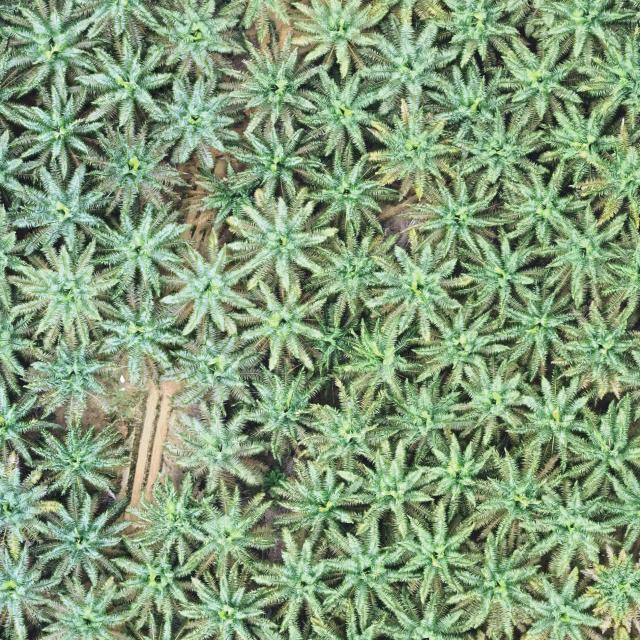Tree: (5, 231, 119, 352), (448, 439, 572, 550), (85, 193, 195, 311), (220, 182, 340, 290), (73, 115, 192, 218), (155, 221, 258, 340), (352, 2, 462, 110), (362, 222, 466, 336), (220, 29, 328, 136), (170, 476, 280, 581), (515, 476, 626, 578), (542, 195, 636, 313), (28, 488, 135, 591), (312, 510, 410, 622), (444, 530, 542, 640), (268, 460, 373, 562), (8, 155, 107, 263), (304, 212, 398, 325), (292, 372, 402, 467), (4, 79, 107, 180), (236, 363, 340, 463), (0, 0, 103, 100), (91, 284, 190, 388), (371, 370, 476, 468), (225, 272, 330, 370), (399, 166, 510, 258), (454, 222, 554, 324), (146, 66, 244, 169), (248, 520, 337, 632), (411, 302, 512, 400), (296, 148, 398, 245), (15, 330, 120, 424), (555, 390, 640, 506), (104, 528, 206, 624), (498, 371, 596, 470), (351, 439, 443, 544), (289, 0, 400, 86), (389, 500, 483, 601), (73, 33, 174, 127), (367, 111, 466, 206), (547, 297, 640, 398), (125, 466, 213, 570), (496, 154, 594, 246), (164, 402, 266, 490), (448, 105, 548, 191), (175, 555, 276, 640), (32, 415, 134, 499), (489, 30, 586, 118), (299, 62, 385, 161), (536, 96, 628, 188), (222, 119, 324, 201), (567, 114, 640, 228), (143, 0, 248, 79), (447, 351, 534, 446), (166, 327, 256, 415), (423, 56, 512, 142), (511, 562, 609, 640), (333, 314, 422, 397), (572, 20, 640, 124), (0, 530, 62, 640), (495, 290, 577, 373), (36, 573, 133, 640), (0, 451, 57, 560), (434, 0, 524, 69), (538, 0, 635, 61), (0, 368, 51, 468), (585, 548, 640, 629), (68, 0, 172, 40), (598, 460, 640, 553)
